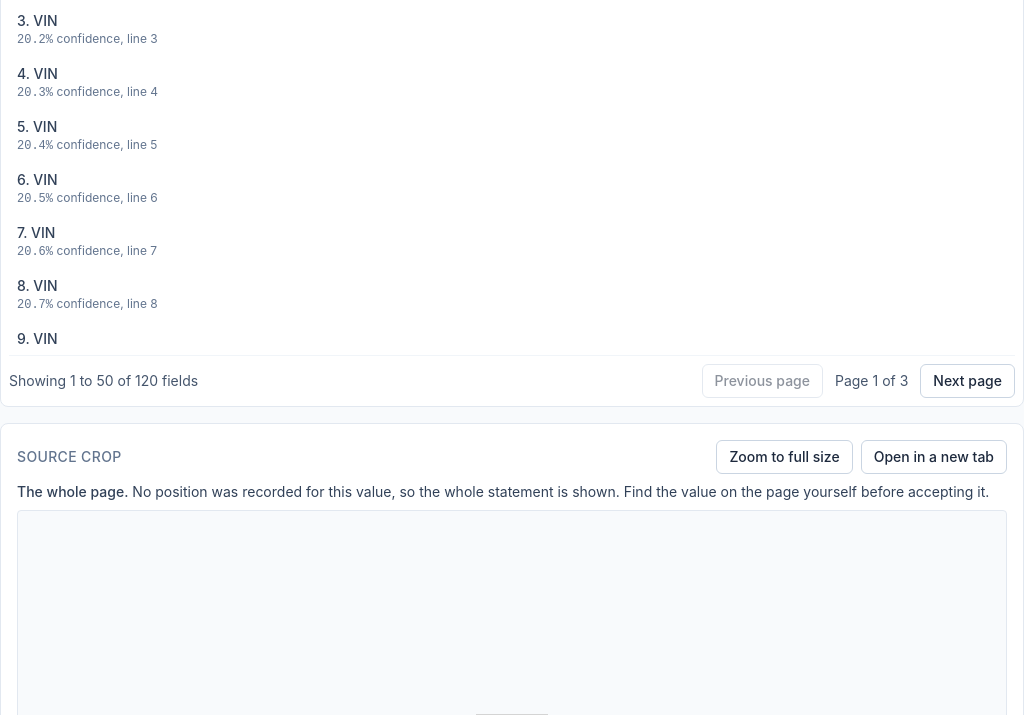
Test: paging the queue › offers a control that reaches past the first page
The width and height of the screenshot is (1024, 715).
(page scrolled)
Check: the text "Showing 1 to 50 of 120 fields" is shown, box [9, 371, 198, 391]
Click the button "Next page": (968, 381) [920, 364, 1015, 398]
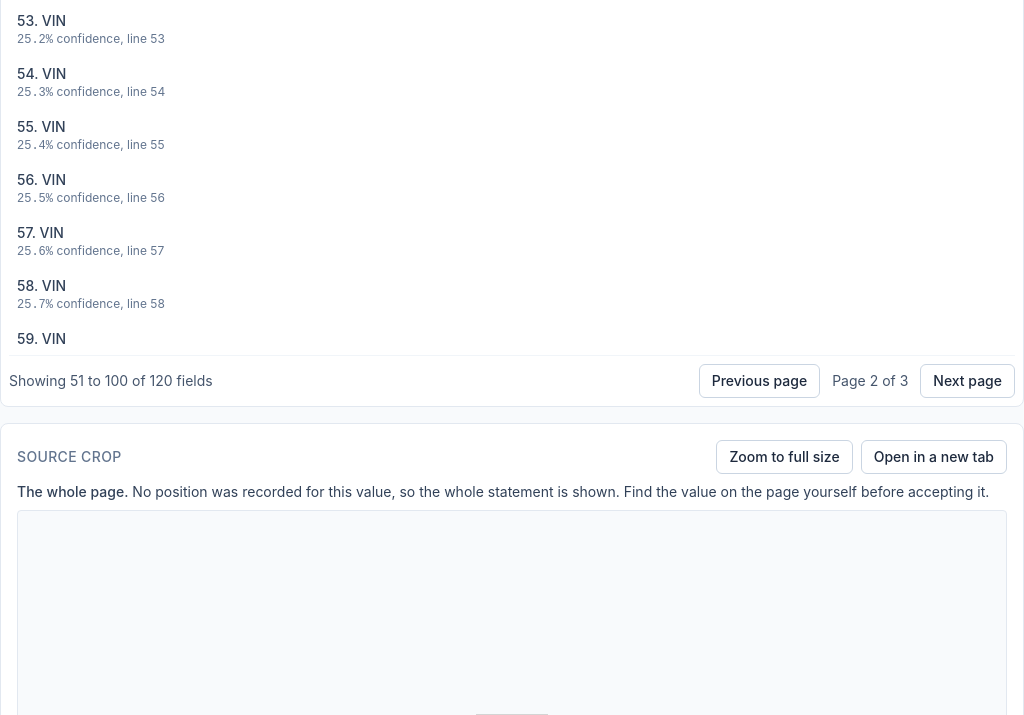
Check: the text "Showing 51 to 100 of 120 fields" is shown, box [9, 371, 213, 391]
Click the button "Next page": (968, 381) [920, 364, 1015, 398]
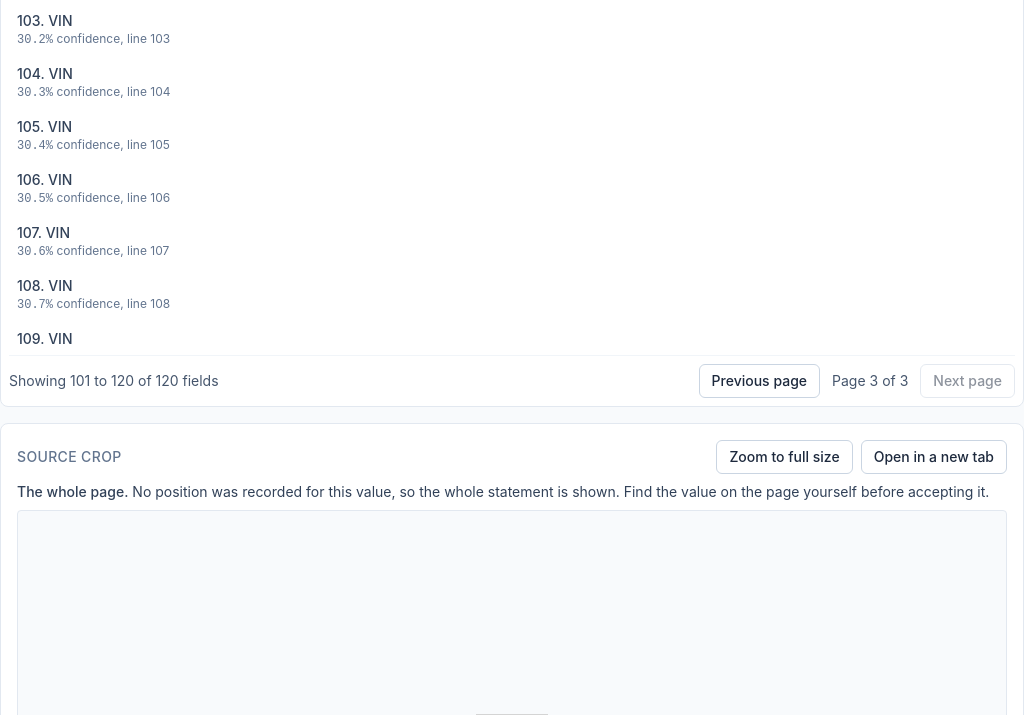
Check: the text "Showing 101 to 120 of 120 fields" is shown, box [9, 371, 219, 391]
Check: the button "Next page" is disabled, box [920, 364, 1015, 398]
